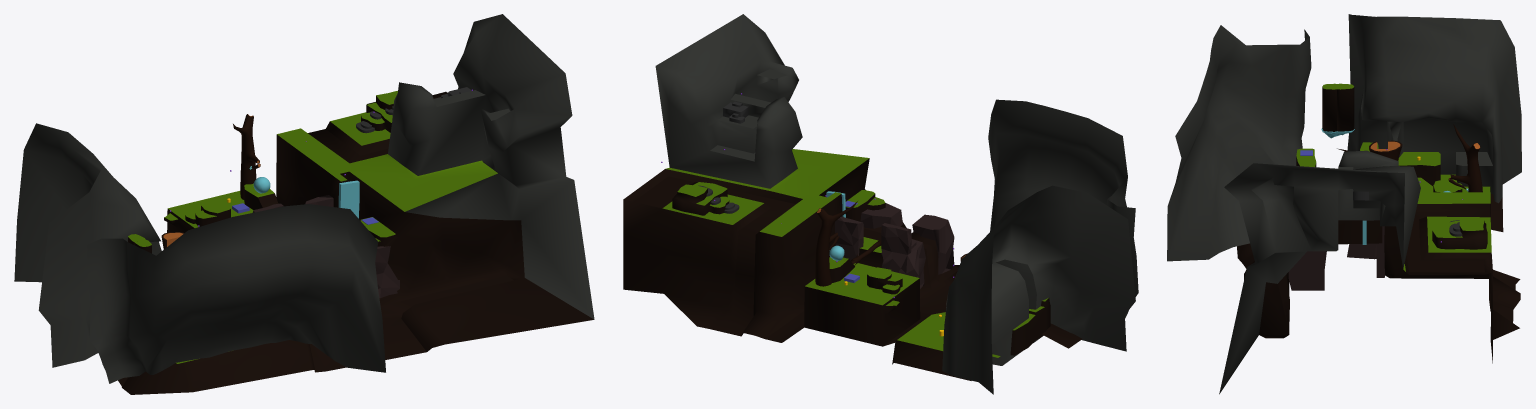
Rendered from SM_Section1A_v2.FBX.
3 views of the same model, side by side, from view 1: azimuth 30°, elevation 25°; view 2: azimuth 150°, elevation 25°; view 3: azimuth 270°, elevation 25° (orthographic). The views are drawn at different scales.
Parts seen in each view (by area): view 1: SM_Land_S1, Cave_003, Cave_002, SM_TreeBroken, RockArea2, SM_Land_5, SM_Land_3, Iceblock, SM_Land_6; view 2: SM_Land_S1, Cave_002, Cave_003, RockArea4, SM_Land_5, RockArea1, SM_Land_2, SM_TreeBroken, RockArea3, RockArea2, SM_Land_3, SM_Land_4 (+1 smaller); view 3: SM_Land_S1, Cave_002, Cave_003, SM_Land_5, RockArea2, SM_Land_2, SM_TreeBroken, Column_2, Column_1, RockArea4, SM_TreeWallClimb, RockArea3.
Boxes of the visible parts, x1,y1,x2,y2 form: SM_Land_S1: (118,14,594,394); Cave_003: (87,204,385,383); Cave_002: (14,123,161,367); SM_TreeBroken: (233,114,259,199); RockArea2: (375,246,399,298); SM_Land_5: (361,91,397,132); SM_Land_3: (185,201,230,226); Iceblock: (338,180,359,218); SM_Land_6: (244,183,278,209); SM_Land_S1: (623,14,1081,380); Cave_002: (942,185,1135,394); Cave_003: (988,99,1138,318); RockArea4: (881,223,925,288); SM_Land_5: (672,182,729,215); RockArea1: (912,214,954,274); SM_Land_2: (1010,298,1050,355); SM_TreeBroken: (815,201,857,286); RockArea3: (835,216,863,263); RockArea2: (860,203,902,255); SM_Land_3: (867,267,902,294); SM_Land_4: (845,190,885,221); SM_Land_S1: (1219,150,1520,394); Cave_002: (1347,14,1521,203); Cave_003: (1167,25,1311,261); SM_Land_5: (1432,219,1487,249); RockArea2: (1288,251,1326,290); SM_Land_2: (1360,142,1440,186); SM_TreeBroken: (1450,124,1482,192); Column_2: (1337,83,1354,131); Column_1: (1322,83,1337,131); RockArea4: (1347,243,1376,259); SM_TreeWallClimb: (1337,140,1402,160); RockArea3: (1376,226,1384,277).
Size of the model in its own units: 160 by 74.71 by 104.
